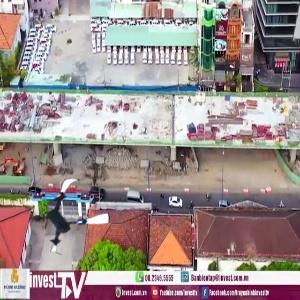drone: (30, 175, 111, 256)
